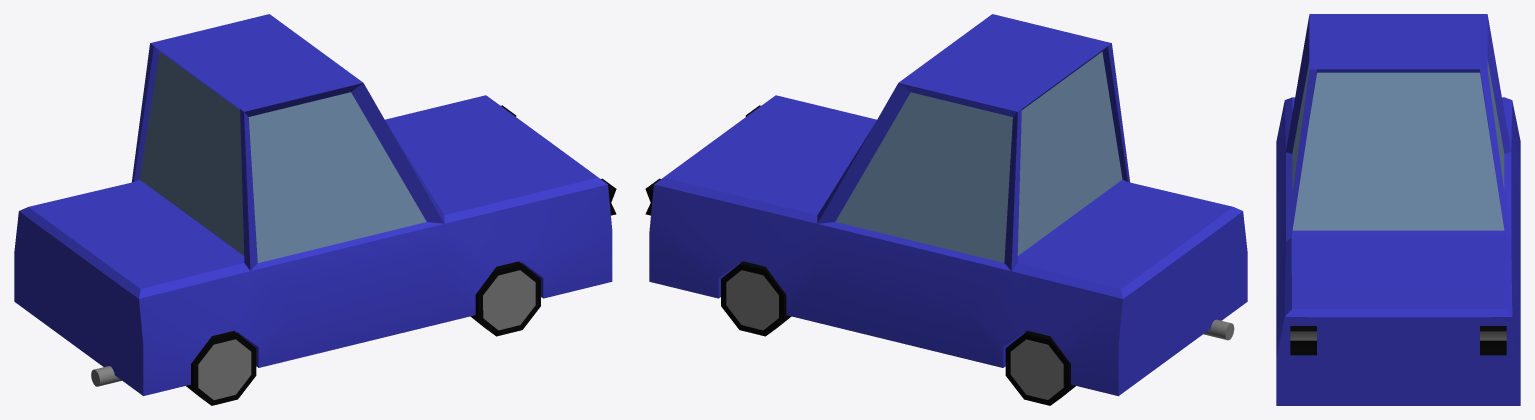
The model's file is Decoration_Car_Blue.fbx.
3 views of the same model, side by side, from view 1: azimuth 30°, elevation 25°; view 2: azimuth 150°, elevation 25°; view 3: azimuth 270°, elevation 25° (orthographic). The views are drawn at different scales.
Visible parts, largest first — view 1: pCube1, pCylinder3, pCylinder1; view 2: pCube1, pCylinder2, pCylinder4; view 3: pCube1, pCube2, pCube3.
Part boxes in pixels (box(x1,y1,x2,y2)): pCube1: box(14, 14, 612, 395); pCylinder3: box(470, 261, 540, 336); pCylinder1: box(186, 331, 256, 405); pCube1: box(649, 14, 1247, 396); pCylinder2: box(1005, 331, 1075, 405); pCylinder4: box(721, 261, 791, 336); pCube1: box(1276, 14, 1520, 405); pCube2: box(1290, 326, 1316, 355); pCube3: box(1480, 326, 1506, 355).
Bounding box in the file's own units: 2.22 × 1.15 × 1.
